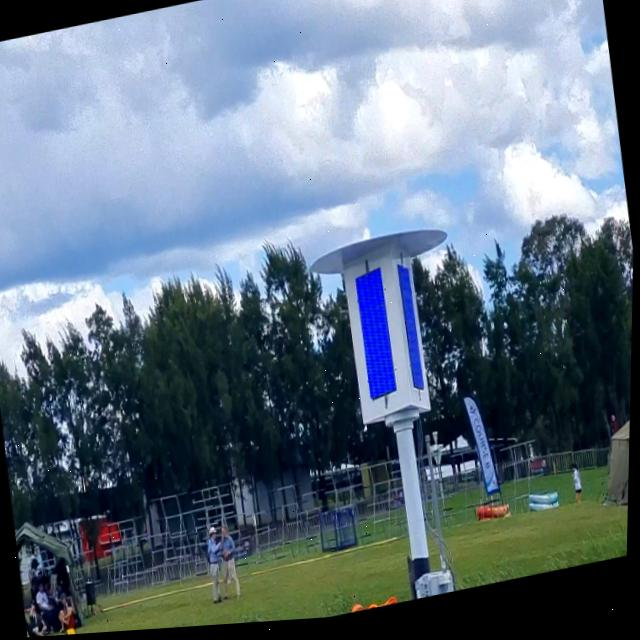led: (345, 264, 408, 412), (393, 262, 431, 408)
